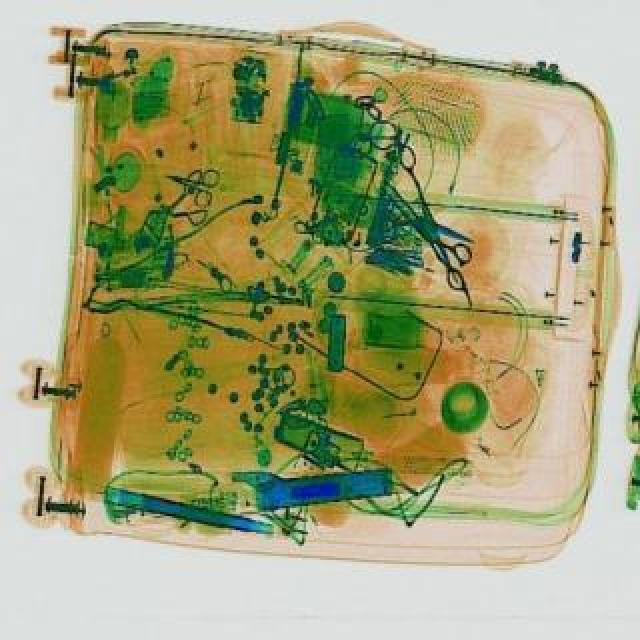pliers: (370, 178, 492, 300), (162, 162, 226, 214)
